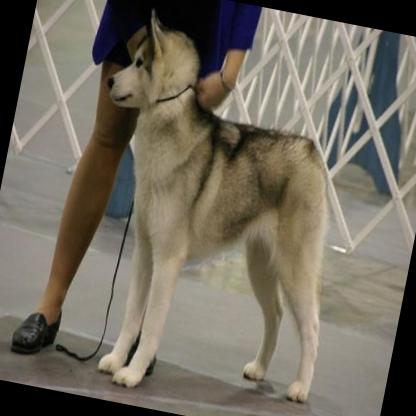Siberian_husky: (49, 0, 375, 416)
